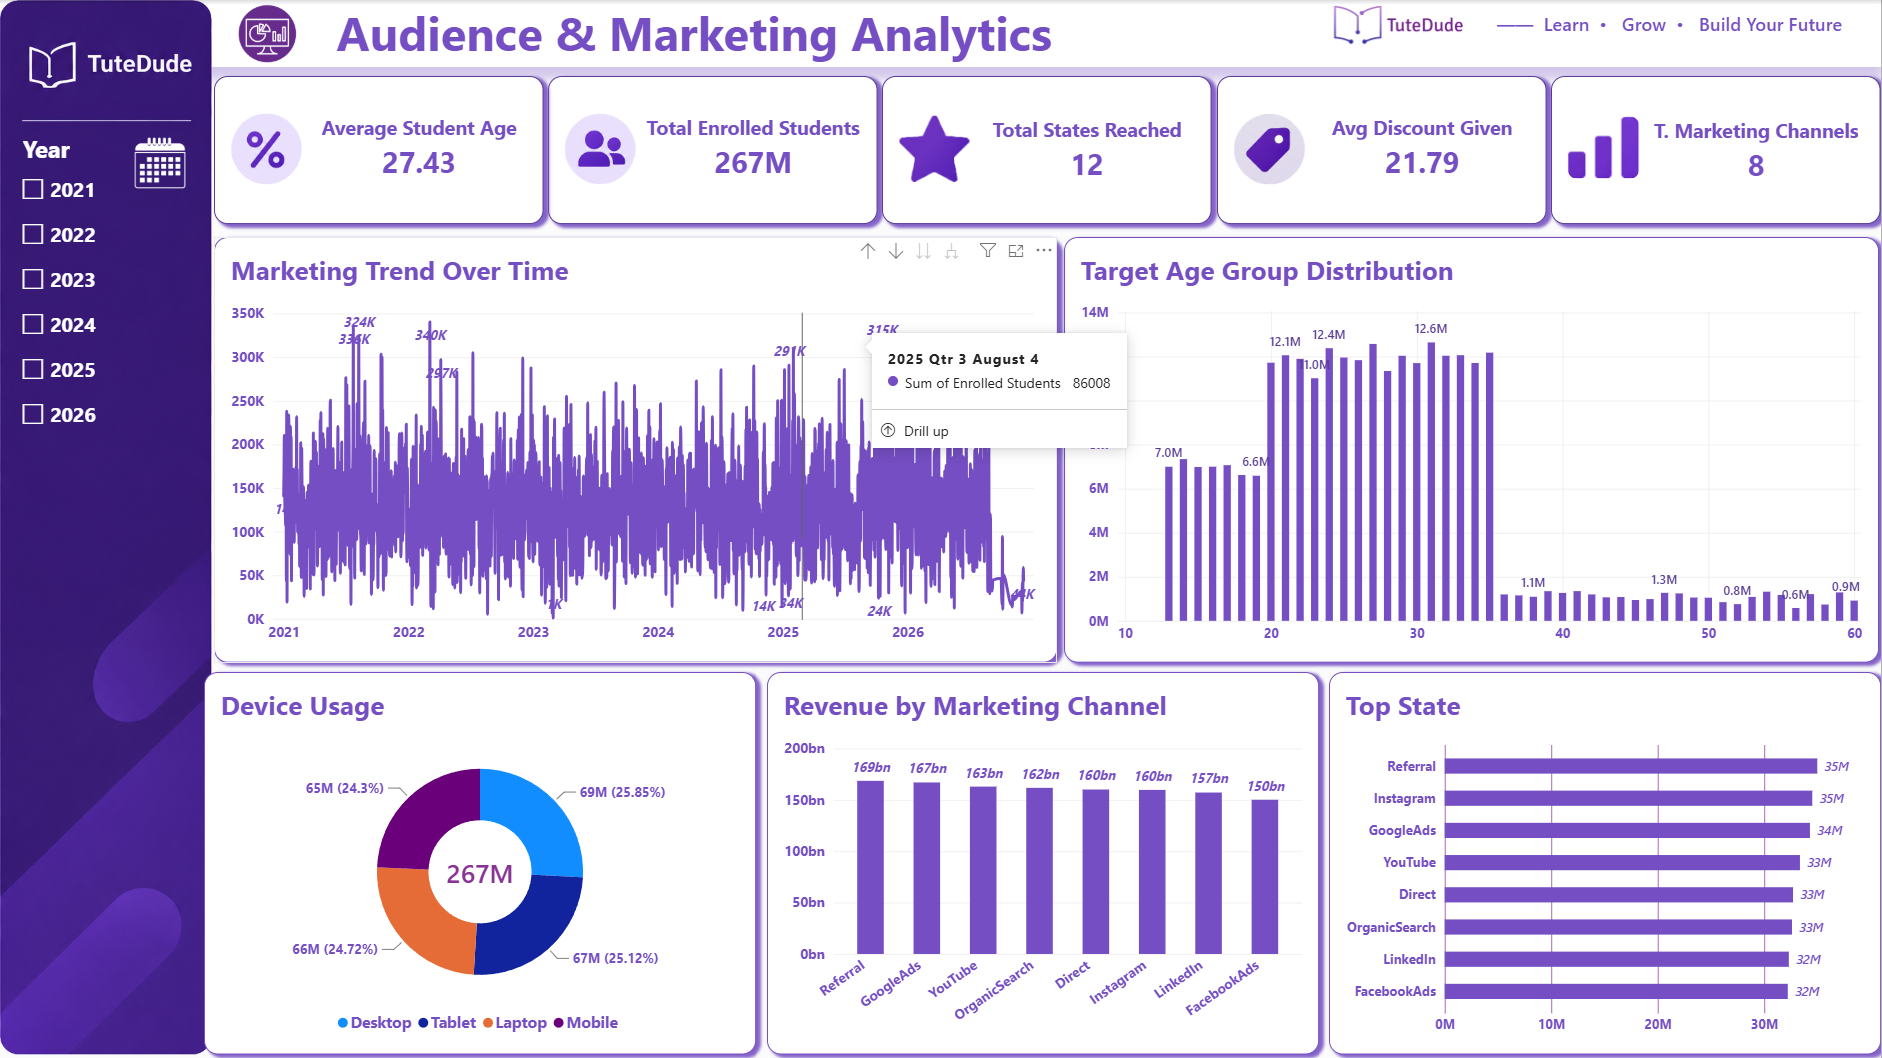

This screenshot's page, from the dashboard's own definition file:
{"tool":"powerbi","page":{"name":"Student Demographics","canvas":[1920,1080],"ordinal":1},"visuals":[{"type":"shape","box":[0,3.9,1920,63.8],"z":0},{"type":"textbox","box":[250.8,0,918.2,67.9],"z":1000},{"type":"image","box":[0,0,220.4,1074.9],"z":2000},{"type":"image","box":[1336.1,4.2,183.9,40.7],"z":3000},{"type":"slicer","fields":{"Values":["Massive_Transactions_Detailed.Year"]},"box":[17.8,135.8,183.9,314.4],"z":4000},{"type":"clusteredColumnChart","title":"Target Age Group Distribution","fields":{"Category":["Massive_Transactions_Detailed.student age"],"Y":["Sum(Massive_Transactions_Detailed.Enrolled Students)"]},"box":[1086.9,241.7,831,434.4],"z":5000},{"type":"cardVisual","title":"Total Student Enrolled","fields":{"Data":["Sum(Massive_Transactions_Detailed.Enrolled Students)"]},"box":[561.1,77.1,336.1,151.5],"z":6000},{"type":"clusteredColumnChart","title":"Revenue by Marketing Channel","fields":{"Category":["Massive_Transactions_Detailed.Acquisition Source"],"Y":["Sum(Massive_Transactions_Detailed.Estimated Revenue (INR))"]},"box":[783.6,685.2,562.8,389.5],"z":7000},{"type":"clusteredBarChart","title":"Top State","fields":{"Category":["Massive_Transactions_Detailed.Acquisition Source"],"Y":["Sum(Massive_Transactions_Detailed.Enrolled Students)"]},"box":[1357.2,685.2,562.8,389.5],"z":8000},{"type":"textbox","box":[1528.3,11.5,379.2,41.8],"z":9000},{"type":"donutChart","title":"Device Usage","fields":{"Category":["Massive_Transactions_Detailed.Primary Device Used"],"Y":["Sum(Massive_Transactions_Detailed.Enrolled Students)"]},"box":[210,685.2,562.8,389.5],"z":10000},{"type":"cardVisual","title":"Total Student Enrolled","fields":{"Data":["Avg(Massive_Transactions_Detailed.student age)"]},"box":[220.2,77.1,336.1,151.5],"z":11000},{"type":"image","box":[129.2,135.4,72.1,60.6],"z":12000},{"type":"cardVisual","title":"Total Student Enrolled","fields":{"Data":["Count(Massive_Transactions_Detailed.Target State (India))"]},"box":[901.9,77.1,336.1,151.5],"z":13000},{"type":"cardVisual","title":"Total Student Enrolled","fields":{"Data":["Avg(Massive_Transactions_Detailed.discount)"]},"box":[1242.7,77.1,336.1,151.5],"z":14000},{"type":"cardVisual","title":"Total Student Enrolled","fields":{"Data":["Count(Massive_Transactions_Detailed.Acquisition Source)"]},"box":[1583.5,77.1,336.1,151.5],"z":15000},{"type":"lineChart","title":"Marketing Trend Over Time","fields":{"Category":["Massive_Transactions_Detailed.Clean Enrolled date.Variation.Date Hierarchy.Year","Massive_Transactions_Detailed.Clean Enrolled date.Variation.Date Hierarchy.Quarter","Massive_Transactions_Detailed.Clean Enrolled date.Variation.Date Hierarchy.Month","Massive_Transactions_Detailed.Clean Enrolled date.Variation.Date Hierarchy.Day"],"Y":["Sum(Massive_Transactions_Detailed.Enrolled Students)"]},"box":[220.2,241.7,859.6,434.4],"z":15001},{"type":"image","box":[239.6,1,70.4,68.3],"z":15002}]}

Visuals, with their boxes in screenshot pixels (x1, y1, x2, y2), scaled from the page's 1920x1080 canvas onto the 1882x1058 screenshot:
shape: 0 4 1881 66
textbox: 246 0 1146 67
image: 0 0 216 1053
image: 1310 4 1490 44
slicer - Massive_Transactions_Detailed.Year: 17 133 198 441
"Target Age Group Distribution" clusteredColumnChart: 1065 237 1880 662
"Total Student Enrolled" cardVisual: 550 76 879 224
"Revenue by Marketing Channel" clusteredColumnChart: 768 671 1320 1053
"Top State" clusteredBarChart: 1330 671 1881 1053
textbox: 1498 11 1870 52
"Device Usage" donutChart: 206 671 758 1053
"Total Student Enrolled" cardVisual: 216 76 545 224
image: 127 133 197 192
"Total Student Enrolled" cardVisual: 884 76 1213 224
"Total Student Enrolled" cardVisual: 1218 76 1548 224
"Total Student Enrolled" cardVisual: 1552 76 1881 224
"Marketing Trend Over Time" lineChart: 216 237 1058 662
image: 235 1 304 68
